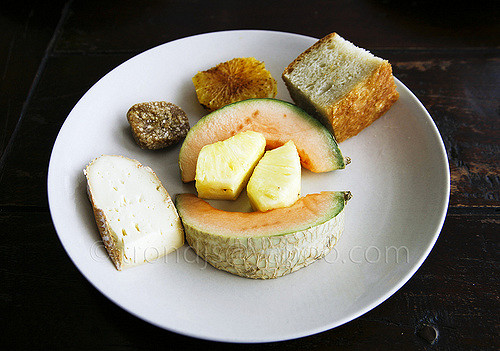slice of bread: (80, 154, 186, 268), (286, 23, 398, 127)
